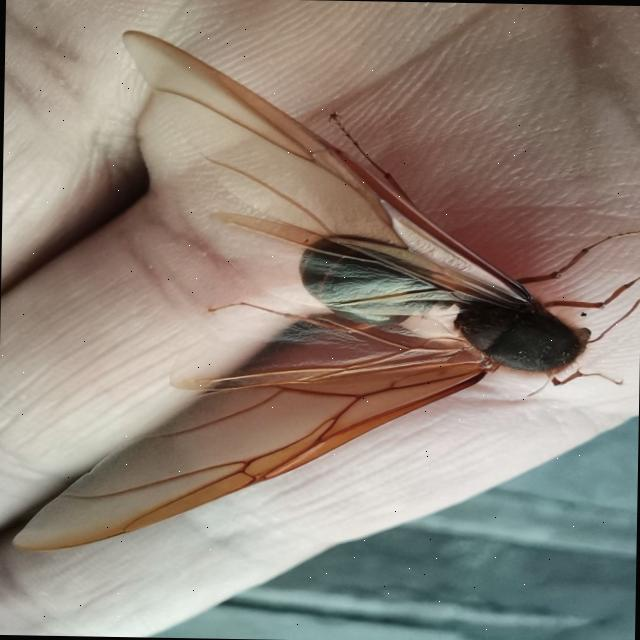Alive-Male-Alate: (12, 29, 640, 561)
